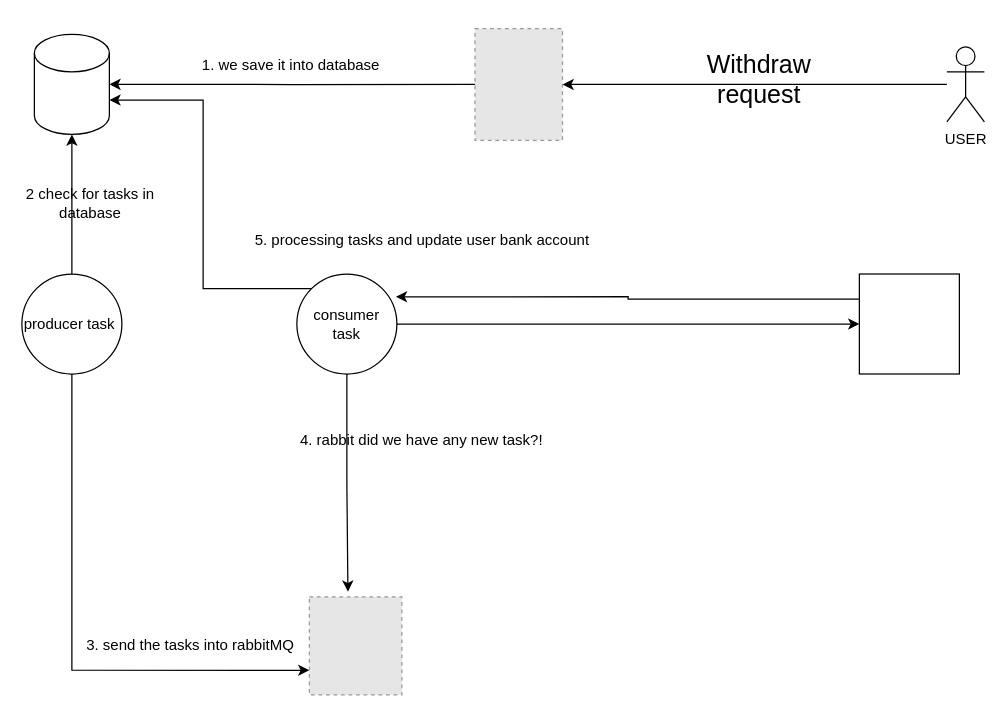
Image size: 1008x716. Some labels were removed from this diagram. Grey dashed boxes stand in for pictures. Here are the shapes that lost their labels. From the top down, the centre of each, then its label:
the point at 71,83: DB
the point at 908,323: 3rd Party bank service
